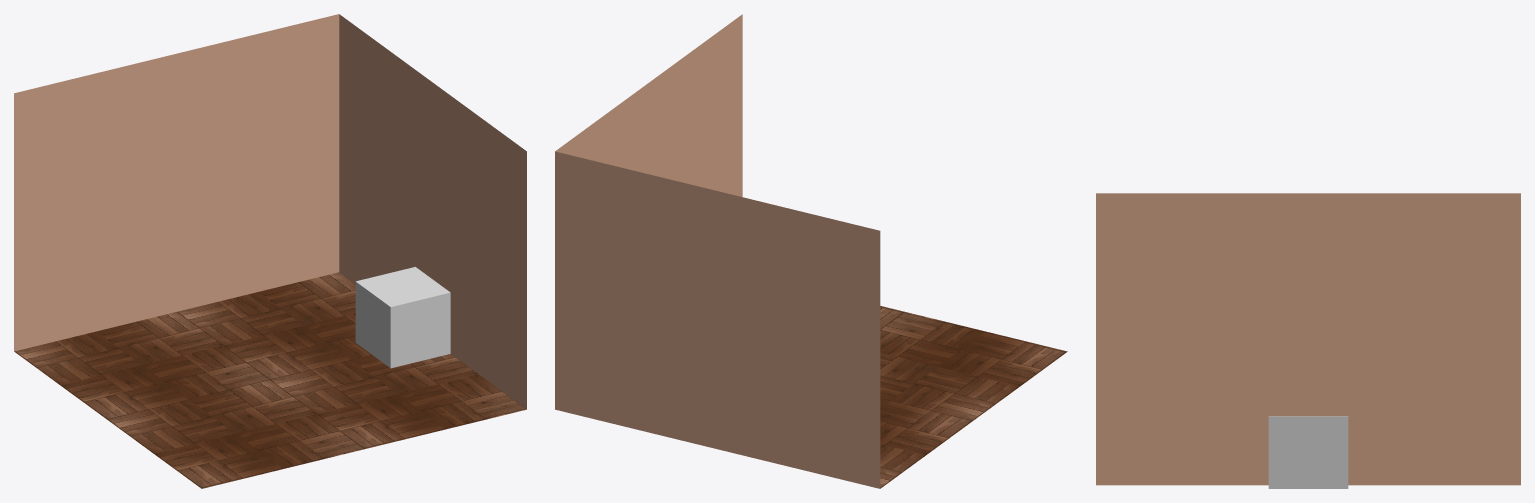
Rendered from ruangan.glb.
3 views of the same model, side by side, from view 1: azimuth 30°, elevation 25°; view 2: azimuth 150°, elevation 25°; view 3: azimuth 270°, elevation 25° (orthographic). The views are drawn at different scales.
Parts seen in each view (by area): view 1: Cube, Cube.001; view 2: Cube; view 3: Cube, Cube.001.
Part boxes in pixels (left/top/right/bottom): Cube: left=14, top=14, right=526, bottom=488; Cube.001: left=355, top=267, right=450, bottom=368; Cube: left=555, top=14, right=1067, bottom=488; Cube: left=1096, top=193, right=1520, bottom=485; Cube.001: left=1268, top=416, right=1348, bottom=488.
Bounding box in the file's own units: 5.56 × 4.24 × 5.54.
Materials: 2 (1 with a texture image).
